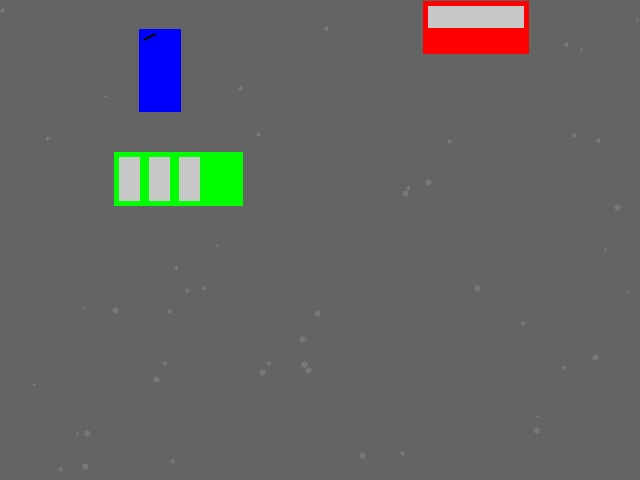bus: (114, 152, 242, 205)
car: (423, 1, 528, 53)
motorcycle: (139, 29, 180, 111)
